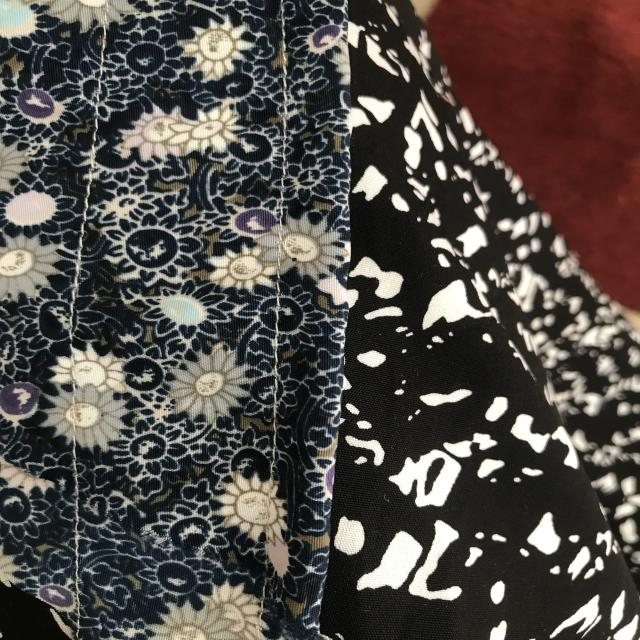good: (260, 293, 292, 458), (66, 468, 89, 596)
